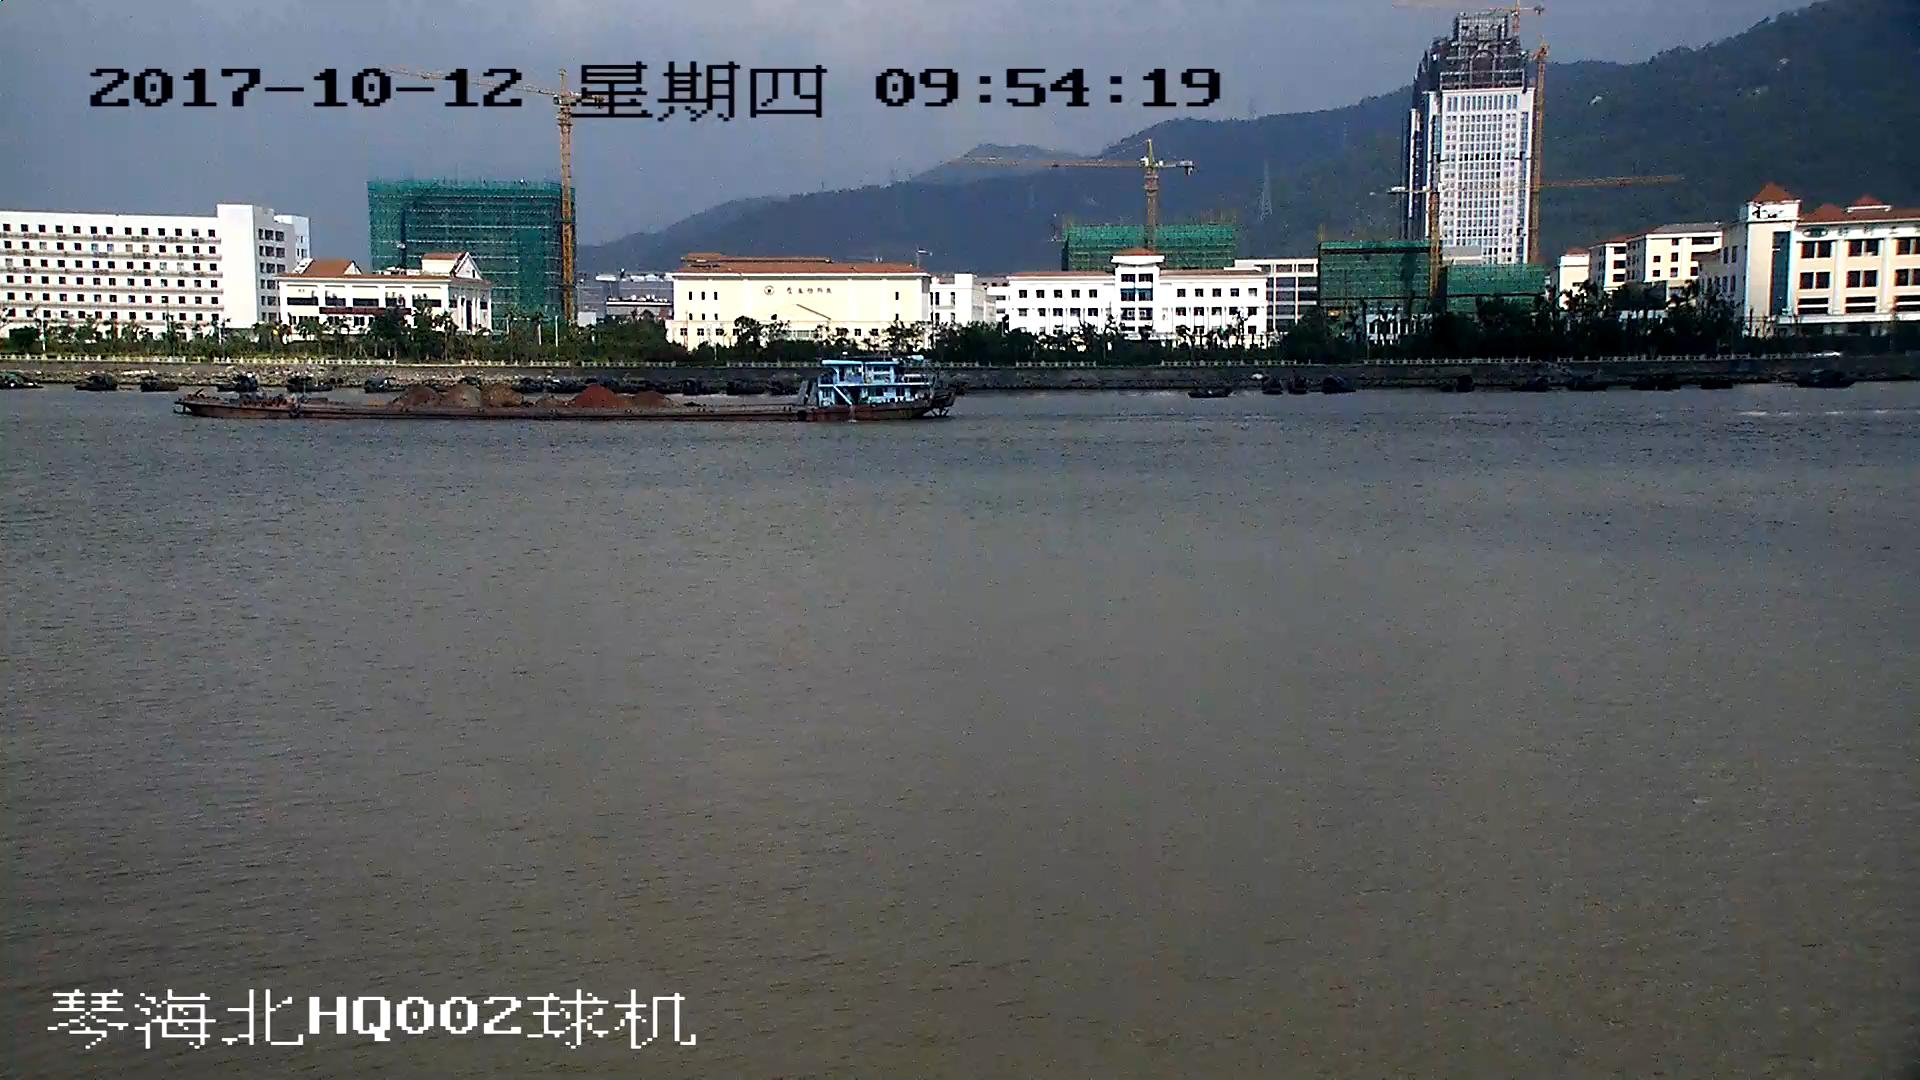ore carrier: (183, 352, 945, 423)
